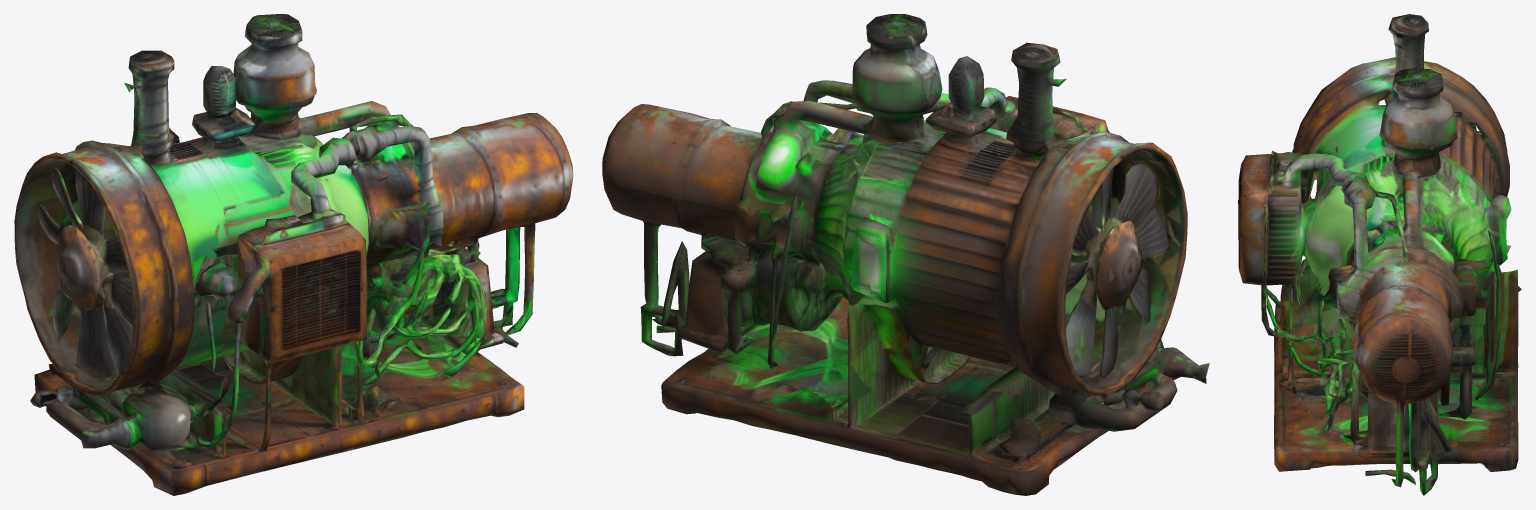
File: Improvised_air_purifi_1208084751_texture.fbx
3 renders of one model, left to right at view 1: azimuth 30°, elevation 25°; view 2: azimuth 150°, elevation 25°; view 3: azimuth 270°, elevation 25°, orthographic. The views are drawn at different scales.
Parts seen in each view (by area): view 1: Mesh_0; view 2: Mesh_0; view 3: Mesh_0.
Boxes of the visible parts, left/top/right/bottom form: Mesh_0: left=14, top=14, right=573, bottom=495; Mesh_0: left=602, top=14, right=1209, bottom=495; Mesh_0: left=1238, top=14, right=1521, bottom=495.
Bounding box in the file's own units: 202 × 135 × 107.
Materials: 1 (1 with a texture image).
